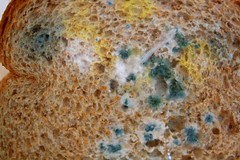mold_bread: (139, 51, 188, 114), (20, 19, 66, 64), (135, 120, 165, 146), (164, 27, 189, 58), (91, 127, 122, 152), (170, 123, 198, 149), (114, 45, 134, 62), (118, 94, 133, 112), (202, 110, 217, 125), (125, 22, 133, 31), (105, 1, 116, 7)
